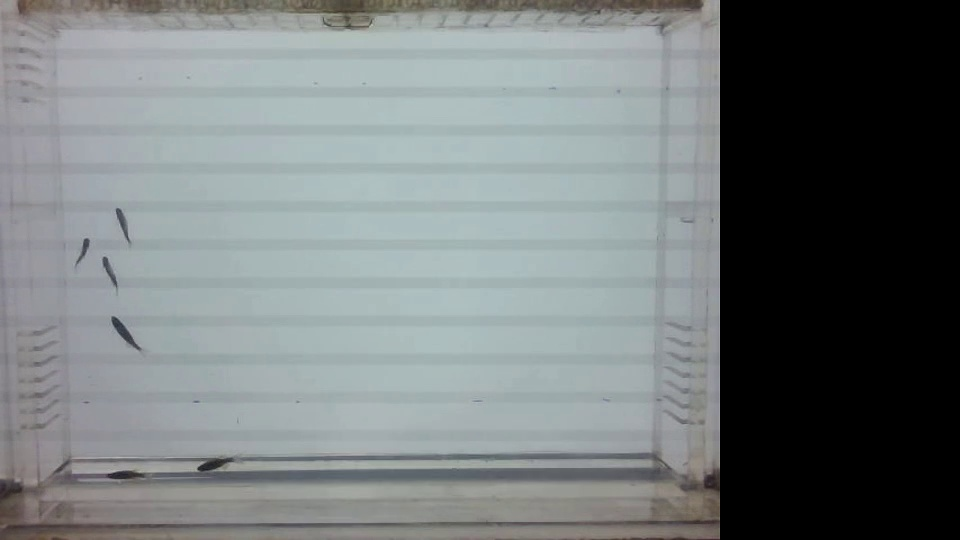fish: (104, 313, 144, 360), (62, 229, 92, 280), (192, 448, 244, 477), (108, 206, 137, 252), (94, 254, 120, 296), (104, 464, 146, 488)
